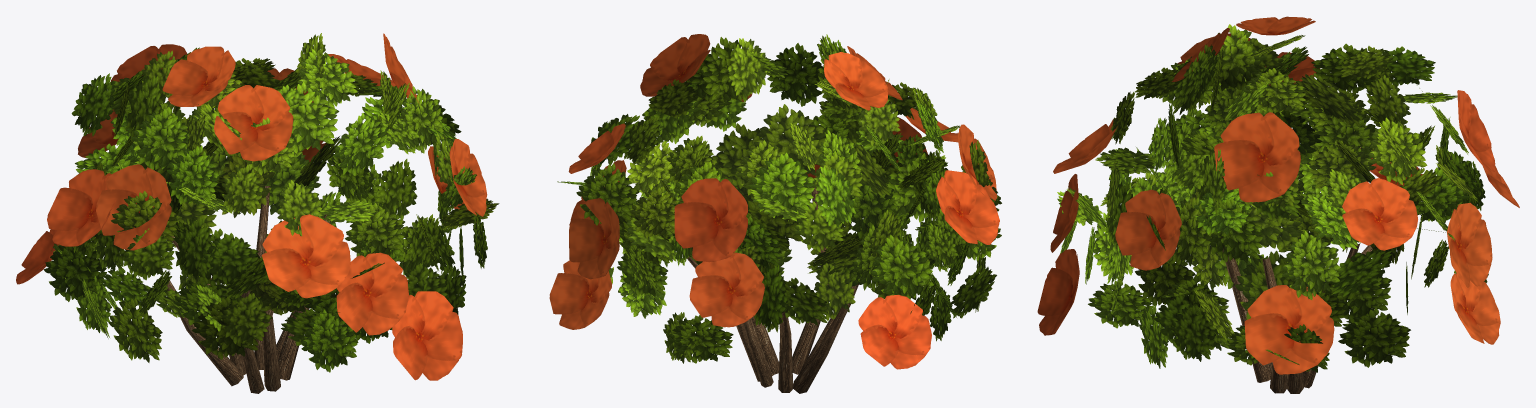
File: mm8_deco_plant31.glb
3 renders of one model, left to right at view 1: azimuth 30°, elevation 25°; view 2: azimuth 150°, elevation 25°; view 3: azimuth 270°, elevation 25°, orthographic. The views are drawn at different scales.
Parts seen in each view (by area): view 1: Plant; view 2: Plant; view 3: Plant.
Boxes of the visible parts, <box> form: Plant: <box>16,33,499,393</box>; Plant: <box>549,34,1001,393</box>; Plant: <box>1037,16,1519,393</box>.
Bounding box in the file's own units: 1.67 × 1.27 × 1.6.
2 materials, 2 textured.
